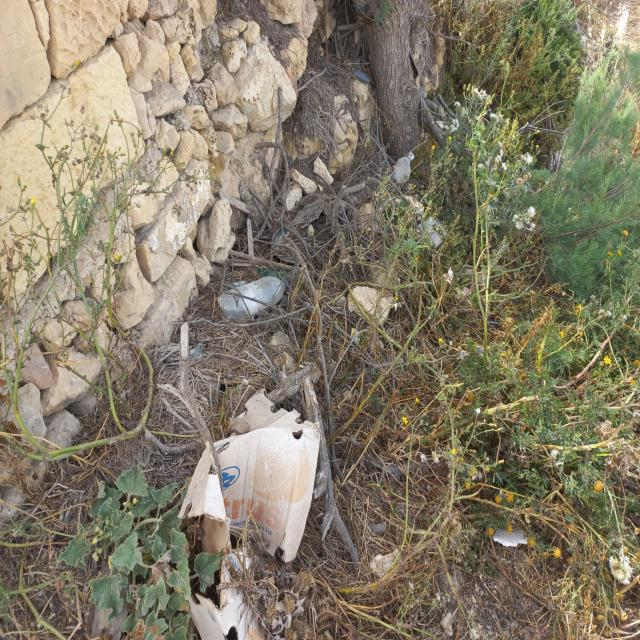Bottle: (217, 276, 289, 321), (394, 152, 415, 185), (252, 267, 285, 280), (224, 279, 251, 291)
Carton: (179, 386, 322, 640)
Other litter: (416, 214, 448, 250)
Other plastic: (349, 59, 375, 88)
Styrofoam piece: (492, 526, 528, 547)
